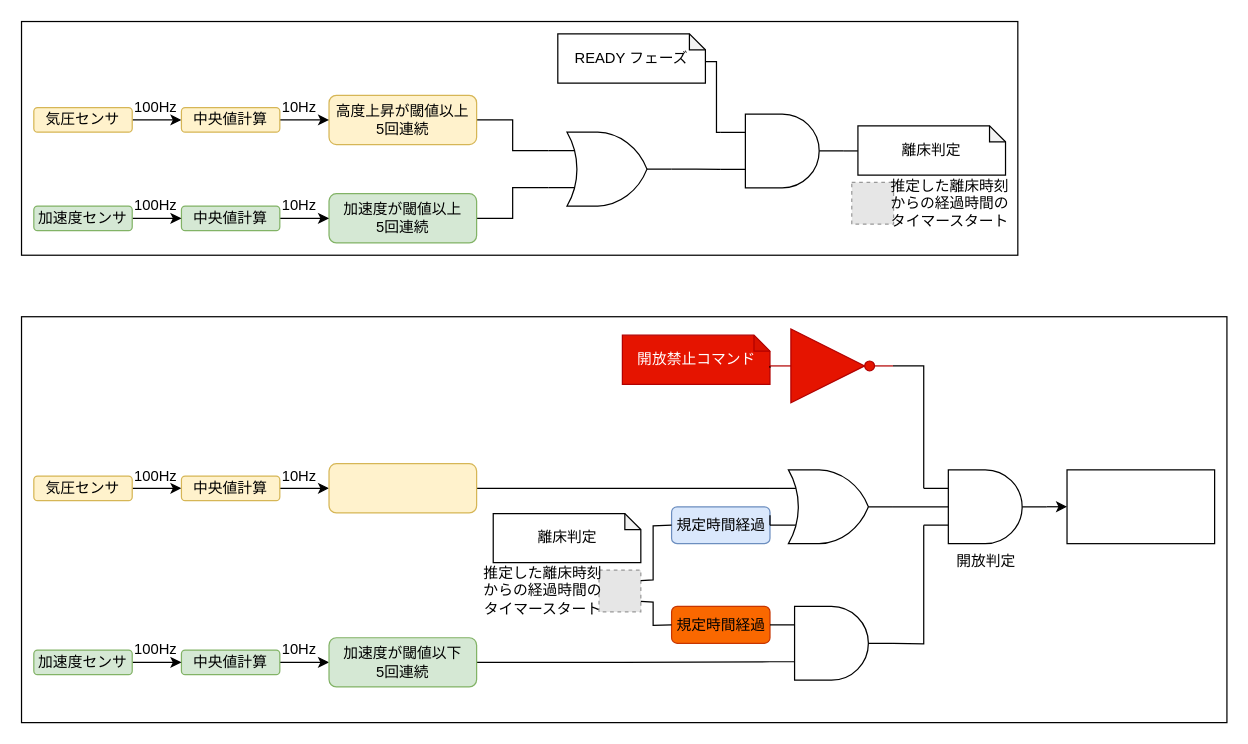
Some shapes in this 1248 by 744 pixel diagram are drawn without their labels. Grey dashed boxes stand in for pictures. Here are the shapes that lost their labels. From the top down, the box of each, then its label:
(769, 328, 893, 403): 非常停止なし
(328, 462, 477, 513): 高度下降が閾値以上 5回連続
(769, 469, 893, 544): 頂点到達
(1066, 469, 1215, 544): アクチュエータ
(769, 605, 893, 680): 燃焼終了
